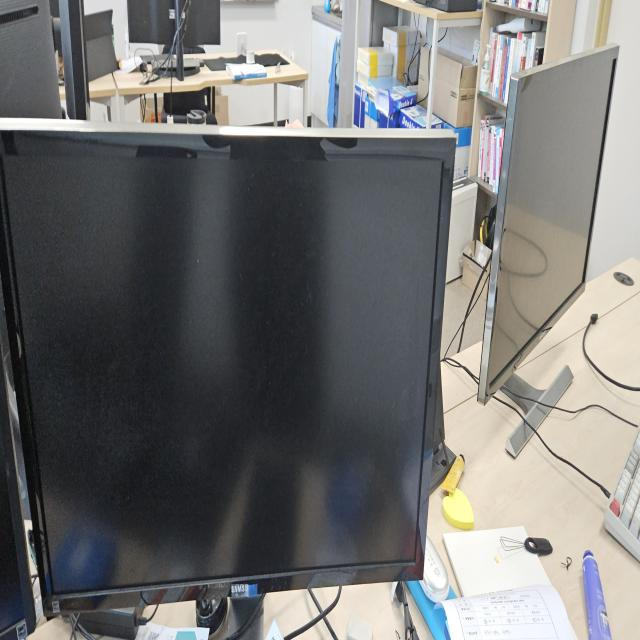Keyboard: (603, 422, 639, 564)
Monitor: (1, 110, 459, 630)
